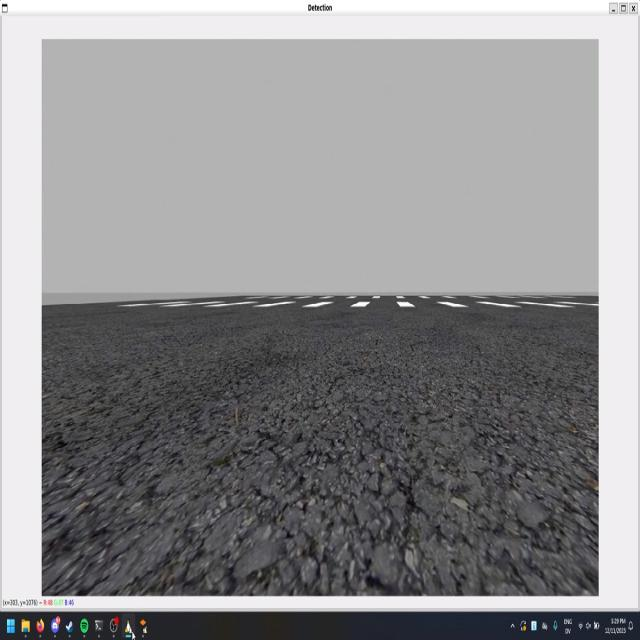crosswalk: (117, 300, 596, 308)
